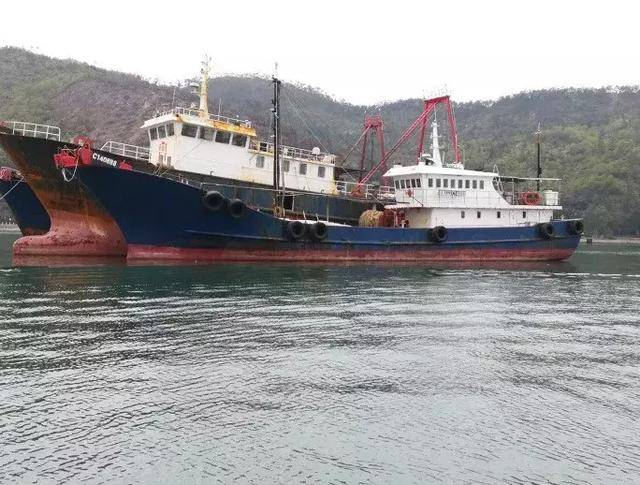Cargoship: (73, 113, 589, 276)
